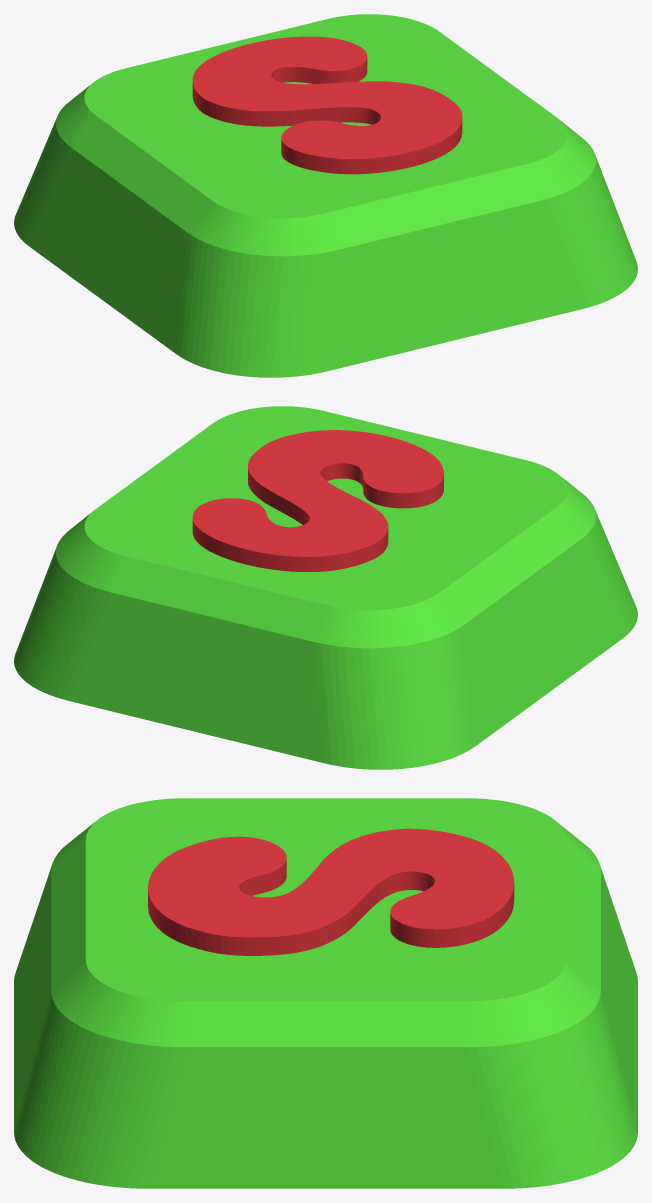
The picture shows the model from 3 angles, top to bottom: view 1: azimuth 30°, elevation 25°; view 2: azimuth 150°, elevation 25°; view 3: azimuth 270°, elevation 25°; orthographic projection. The views are drawn at different scales.
Visible parts, largest first — view 1: CAPS_S, FONT_S; view 2: CAPS_S, FONT_S; view 3: CAPS_S, FONT_S.
Boxes of the visible parts, x1,y1,x2,y2 form: CAPS_S: (14, 14, 637, 377); FONT_S: (192, 36, 462, 174); CAPS_S: (14, 406, 637, 769); FONT_S: (192, 430, 443, 571); CAPS_S: (14, 798, 637, 1188); FONT_S: (148, 828, 514, 955).
Size of the model in its own units: 18 by 5.59 by 18.
